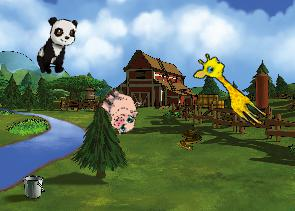giraffe: (188, 49, 276, 130)
panda: (33, 13, 80, 79)
pig: (91, 82, 147, 138)
